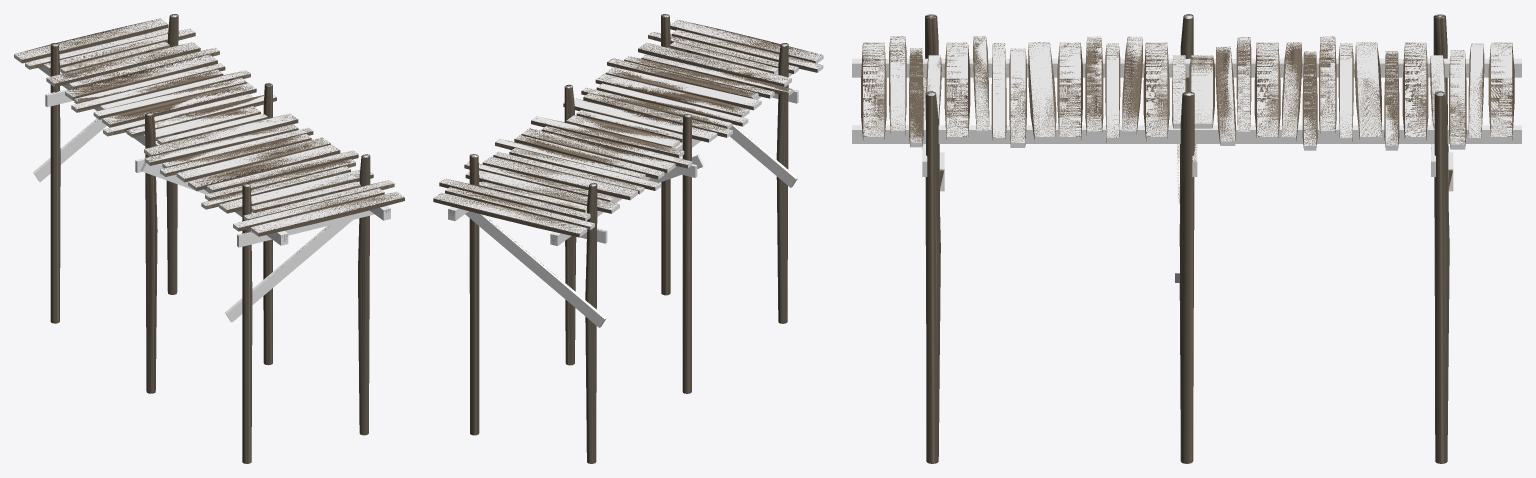
The model's file is objects_un_dlc1_logbridge01.gltf.
3 renders of one model, left to right at view 1: azimuth 30°, elevation 25°; view 2: azimuth 150°, elevation 25°; view 3: azimuth 270°, elevation 25°, orthographic. The views are drawn at different scales.
Visible parts, largest first — view 1: um_objects_un_dlc1_logbridge01_model_lod0Shape:objects_un_dl (×3), um_objects_un_dlc1_logbridge01_model_lod1Shape:objects_un_dl; view 2: um_objects_un_dlc1_logbridge01_model_lod0Shape:objects_un_dl (×3), um_objects_un_dlc1_logbridge01_model_lod1Shape:objects_un_dl; view 3: um_objects_un_dlc1_logbridge01_model_lod0Shape:objects_un_dl (×3), um_objects_un_dlc1_logbridge01_model_lod1Shape:objects_un_dl.
Boxes of the visible parts, box(x1,y1,x2,y2) form: um_objects_un_dlc1_logbridge01_model_lod0Shape:objects_un_dl (×3): box(14, 14, 404, 462); um_objects_un_dlc1_logbridge01_model_lod1Shape:objects_un_dl: box(50, 16, 370, 463); um_objects_un_dlc1_logbridge01_model_lod0Shape:objects_un_dl (×3): box(433, 14, 823, 463); um_objects_un_dlc1_logbridge01_model_lod1Shape:objects_un_dl: box(469, 24, 788, 463); um_objects_un_dlc1_logbridge01_model_lod0Shape:objects_un_dl (×3): box(852, 14, 1521, 463); um_objects_un_dlc1_logbridge01_model_lod1Shape:objects_un_dl: box(925, 17, 1444, 463).
Bounding box in the file's own units: 3.48 × 5.43 × 8.95.
3 materials, 2 textured.
